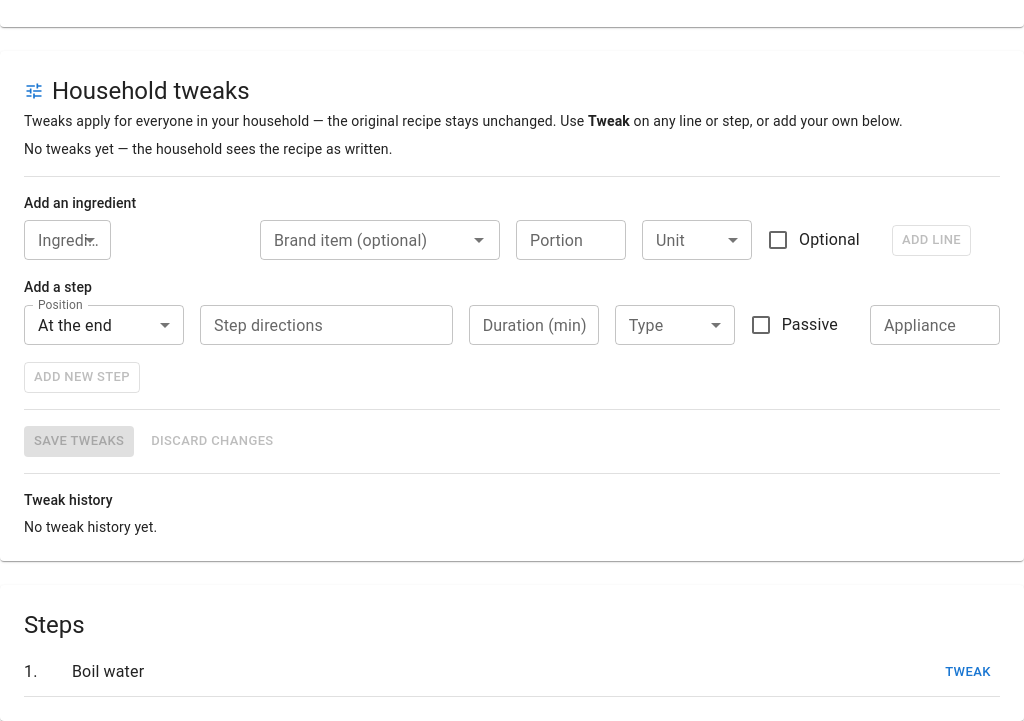
Test case: recipe detail page › warns on page unload while household tweaks are unsaved
(page scrolled)
Expected: the text "Boil water" is shown, [72, 662, 144, 681]
# Apply a tweak so the draft diverges from the saved delta.
Click the button "Tweak" at (968, 672), box [936, 657, 1000, 688]
(page scrolled)
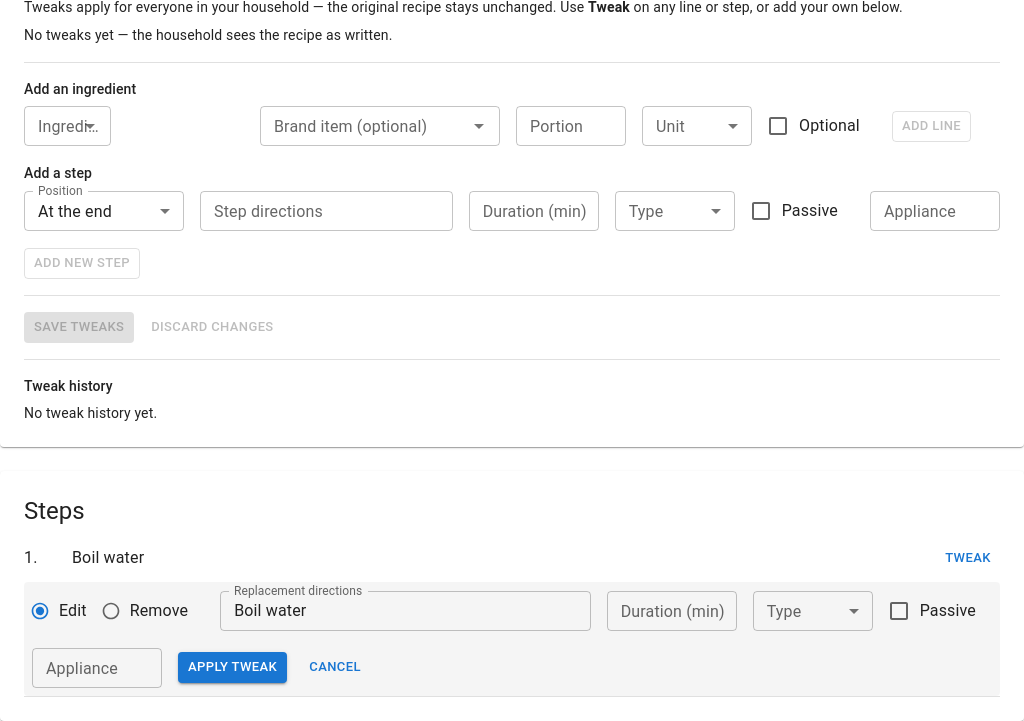
Click the button "Apply tweak" at (233, 668), box [178, 652, 287, 683]
(page scrolled)
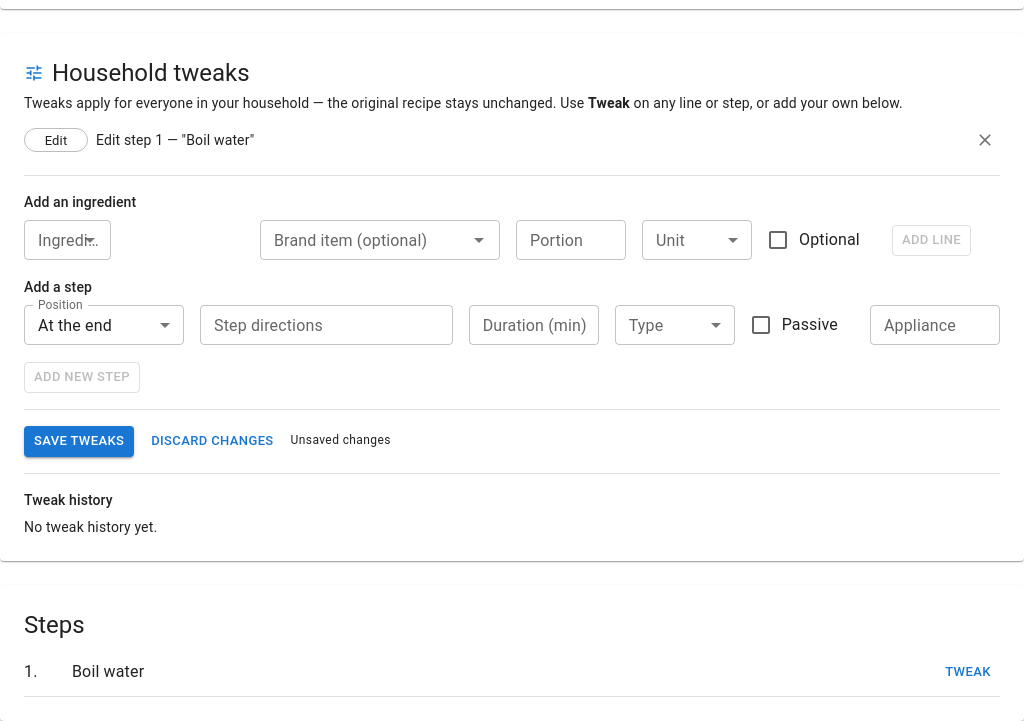
Result: the text "Unsaved changes" is shown at [291, 431, 391, 451]
